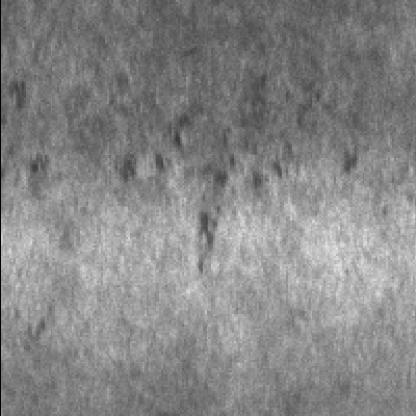rolled-in_scale: (43, 79, 352, 212)
